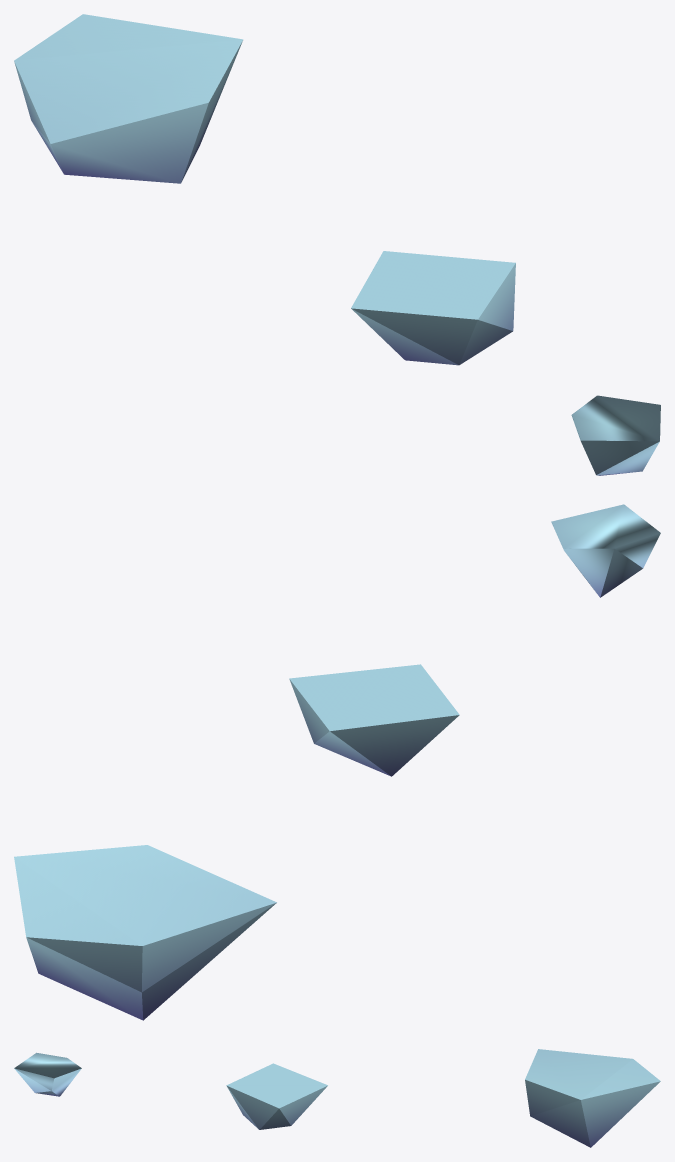
The model's file is scale new.fbx.
The picture shows the model from 3 angles, top to bottom: view 1: azimuth 30°, elevation 25°; view 2: azimuth 150°, elevation 25°; view 3: azimuth 270°, elevation 25°; orthographic projection. The views are drawn at different scales.
Parts seen in each view (by area): view 1: Sphere_13, Sphere, Sphere_20; view 2: Sphere_13, Sphere, Sphere_20; view 3: Sphere_13, Sphere, Sphere_20.
Boxes of the visible parts, bbox=[...] form: Sphere_13: bbox=[14, 14, 243, 183]; Sphere: bbox=[351, 251, 515, 365]; Sphere_20: bbox=[571, 395, 660, 475]; Sphere_13: bbox=[14, 845, 276, 1020]; Sphere: bbox=[289, 664, 459, 776]; Sphere_20: bbox=[551, 504, 660, 597]; Sphere_13: bbox=[525, 1049, 660, 1147]; Sphere: bbox=[226, 1063, 327, 1129]; Sphere_20: bbox=[14, 1052, 81, 1096].
Bounding box in the file's own units: 1282 × 636 × 5706.
Materials: 3 (3 with a texture image).
